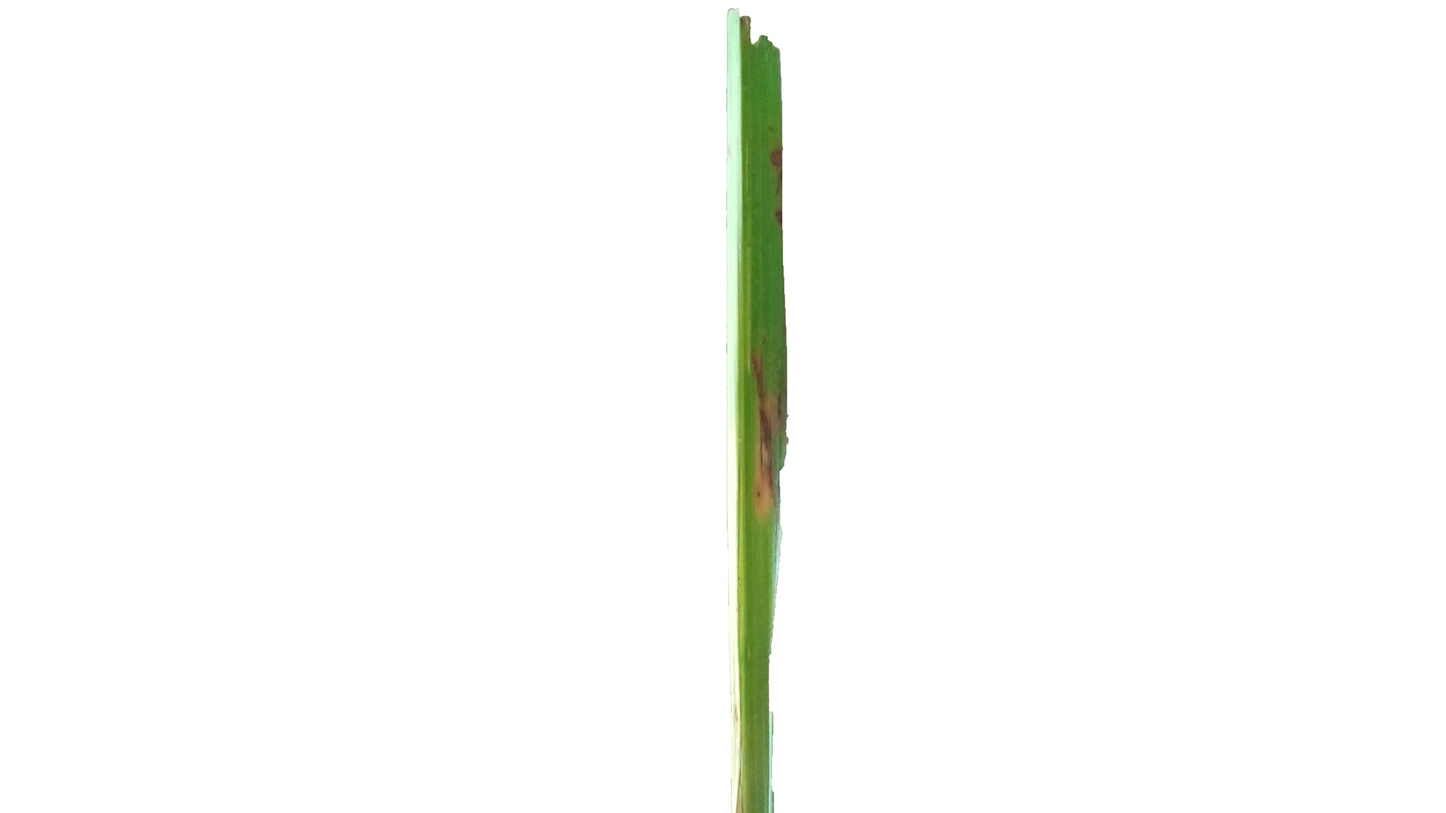Rice blast: (746, 336, 786, 533), (771, 139, 782, 232)
